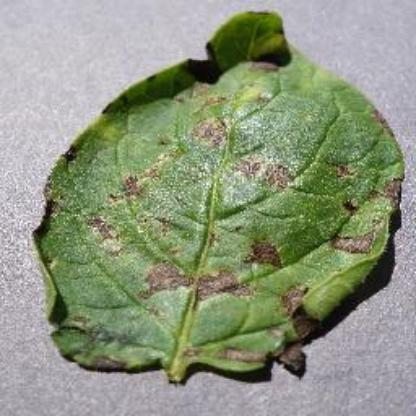Early-Blight: (27, 1, 415, 391)
